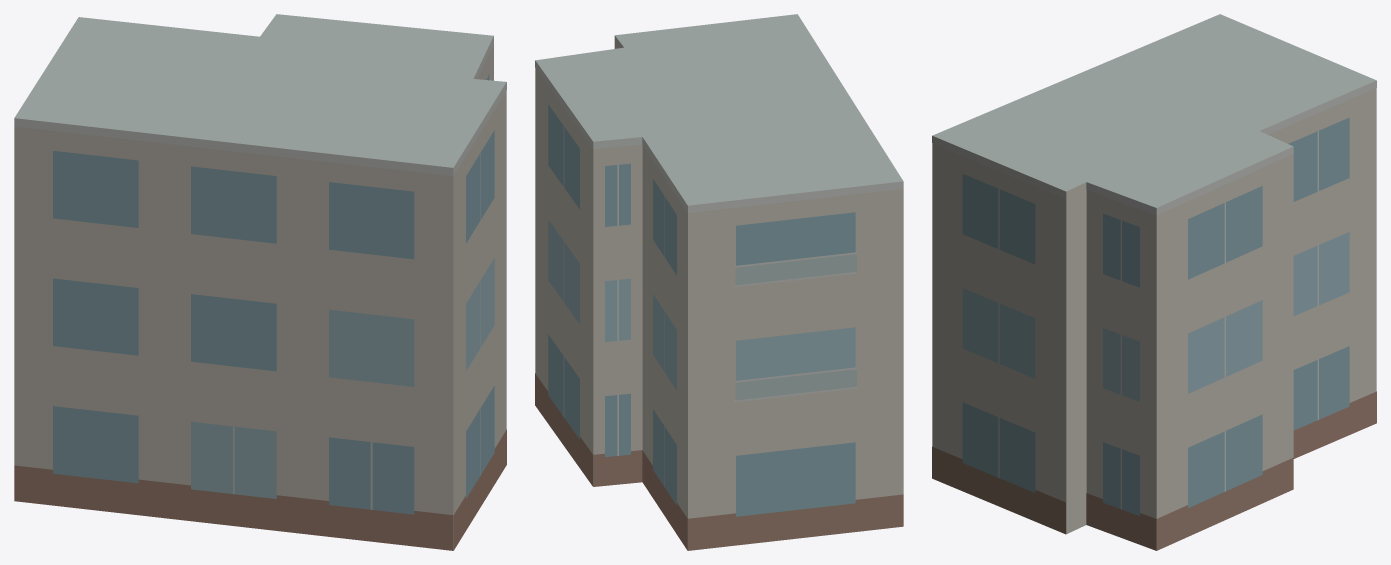
Rendered from survey-upis-32884475.glb.
3 views of the same model, side by side, from view 1: azimuth 30°, elevation 25°; view 2: azimuth 150°, elevation 25°; view 3: azimuth 270°, elevation 25° (orthographic). The views are drawn at different scales.
Parts seen in each view (by area): view 1: survey-upis-32884475.tmp; view 2: survey-upis-32884475.tmp; view 3: survey-upis-32884475.tmp.
Boxes of the visible parts, left/top/right/bottom form: survey-upis-32884475.tmp: left=14, top=14, right=506, bottom=550; survey-upis-32884475.tmp: left=535, top=14, right=903, bottom=550; survey-upis-32884475.tmp: left=932, top=14, right=1376, bottom=550.
Bounding box in the file's own units: 13.6 × 11.2 × 13.17.
